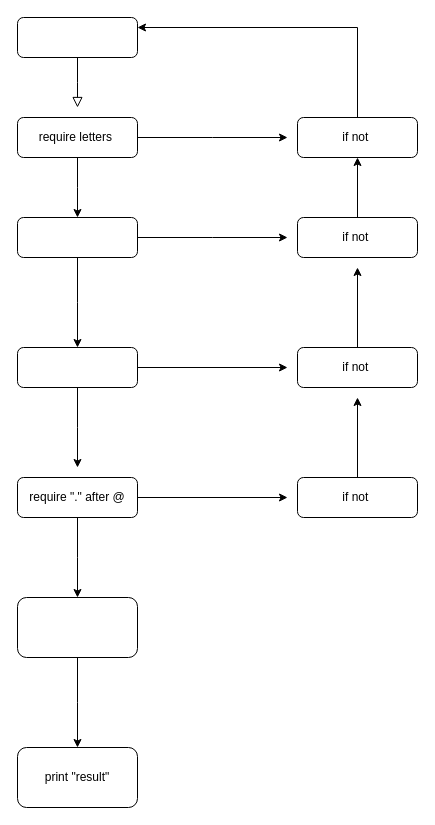
The diagram is 435 pixels wide and 825 high, and some of its shapes have lost their labels. Here are the shapes that lost their labels. From the top down, the centre of each, then its label:
point 77,37: input email
point 77,237: require length of 5 to 30 characters
point 77,367: require "@" sign
point 77,627: result = all requirements
